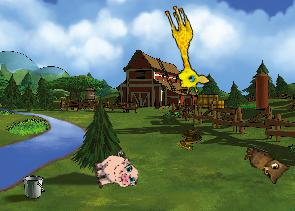giraffe: (153, 2, 212, 97)
owl: (238, 145, 291, 187)
pig: (90, 148, 140, 196)
